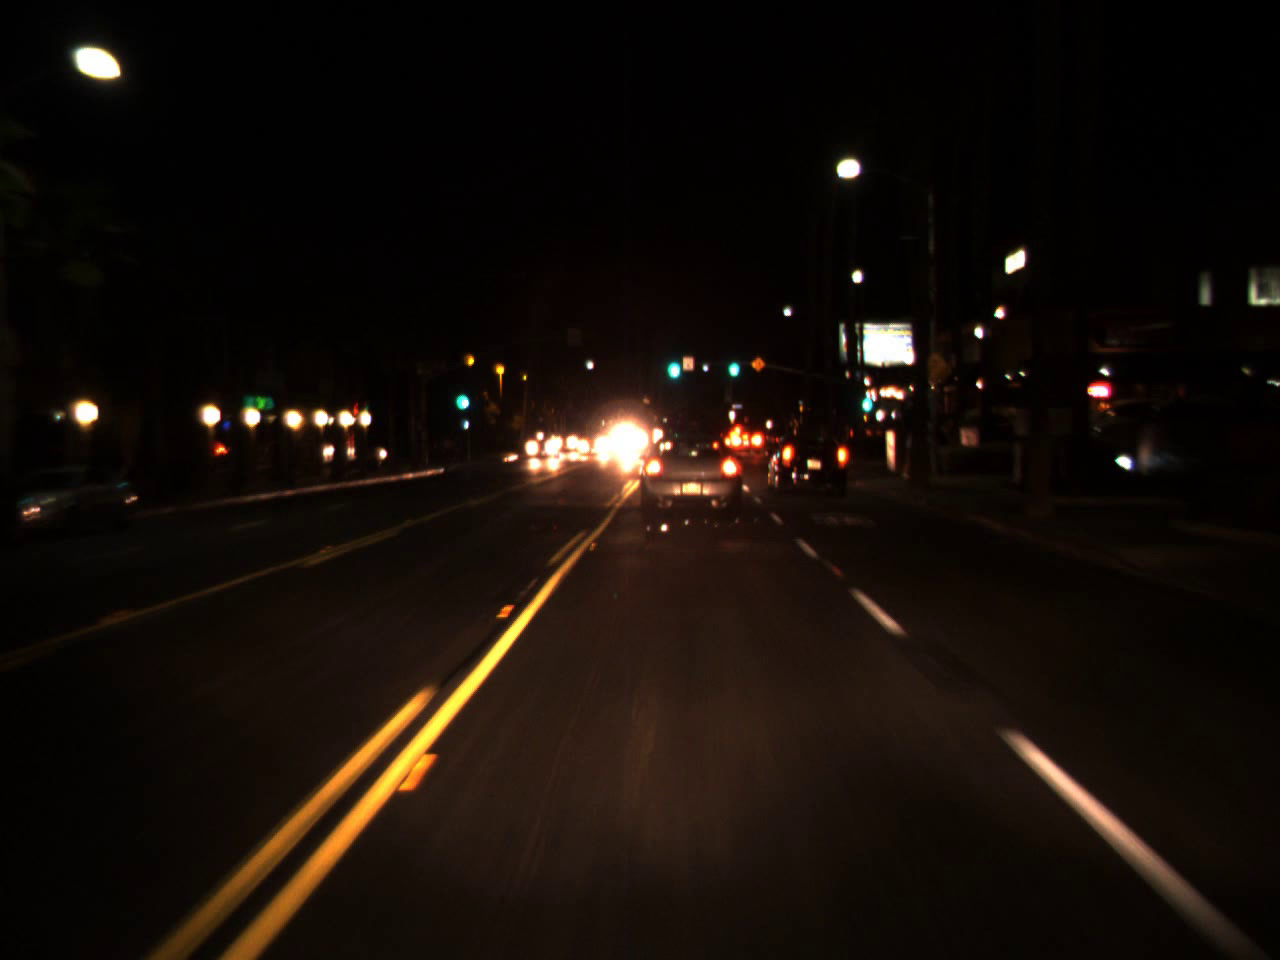go: (662, 343, 683, 385), (855, 376, 874, 418), (451, 376, 470, 415), (725, 346, 741, 382)
